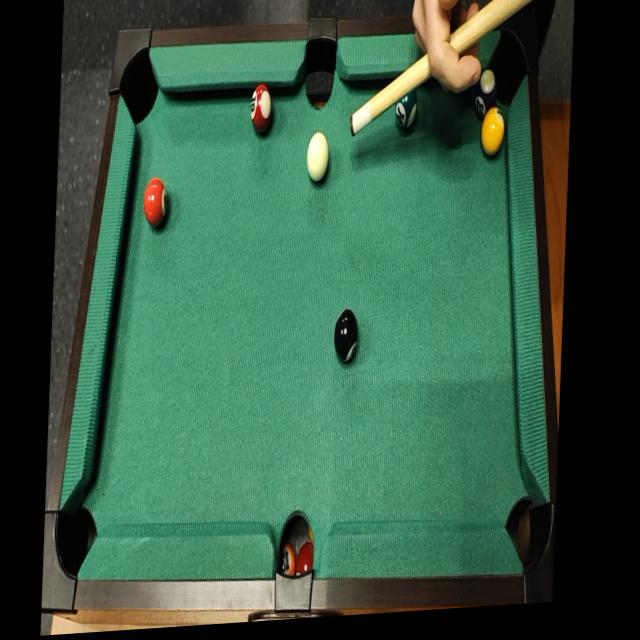cue ball: (305, 128, 332, 192)
other: (468, 64, 500, 122), (478, 103, 508, 163), (247, 77, 276, 137), (331, 308, 359, 363), (143, 174, 171, 228), (392, 86, 422, 132)
